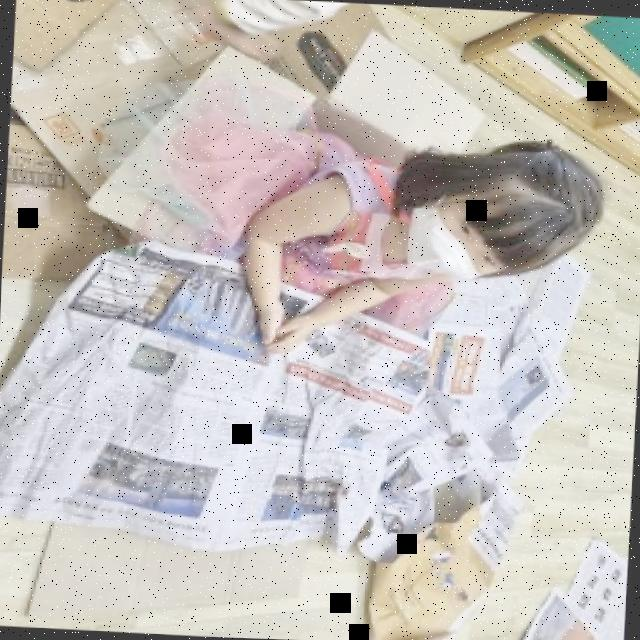reuseable_paper: (31, 318, 438, 514)
